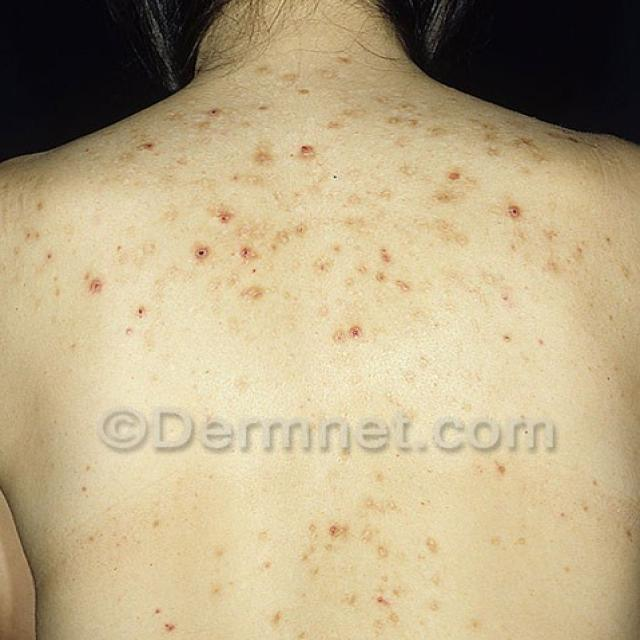Acne: (107, 116, 640, 325), (116, 438, 583, 640), (10, 198, 172, 338), (233, 12, 402, 90)
